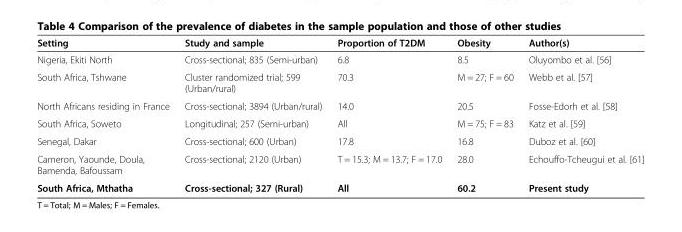table: (36, 36, 643, 193)
table column: (176, 36, 329, 193), (36, 36, 176, 193), (520, 36, 643, 193), (329, 36, 448, 193), (448, 36, 520, 193)
table column header: (36, 36, 643, 50)
table row: (36, 67, 643, 96), (36, 149, 643, 178), (36, 96, 643, 114), (36, 114, 643, 132), (36, 50, 643, 67), (36, 132, 643, 149), (36, 178, 643, 193), (36, 36, 643, 50)
